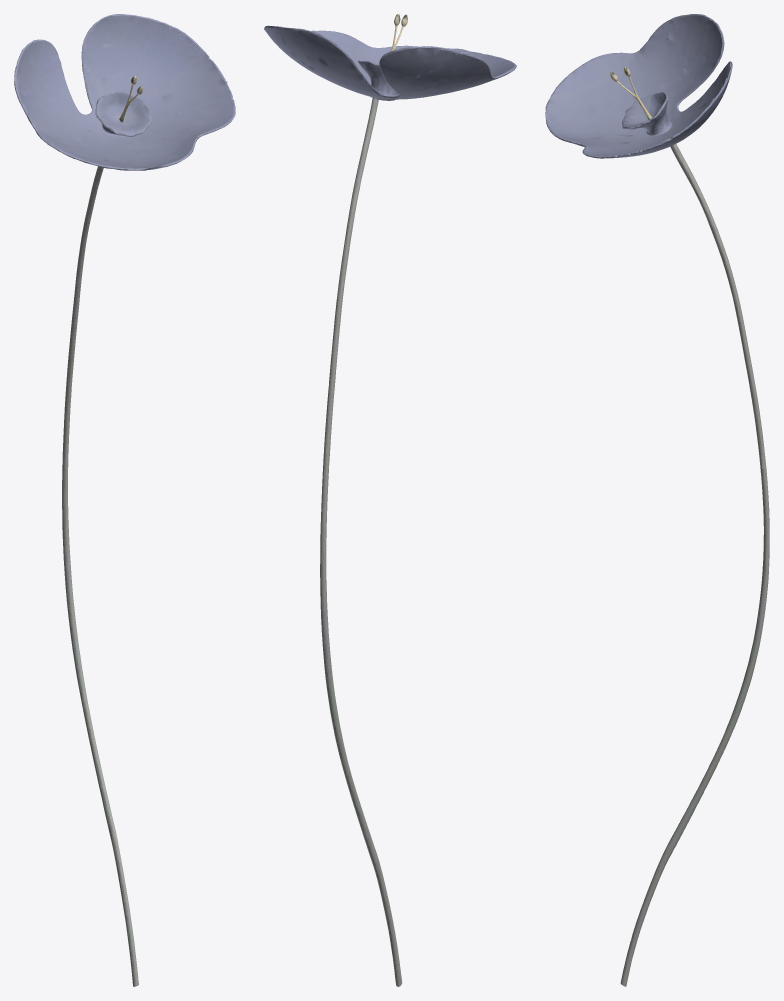
Rendered from 11_5_hamu_cntk_mvi-opt-v60.glb.
The picture shows the model from 3 angles, left to right: view 1: azimuth 30°, elevation 25°; view 2: azimuth 150°, elevation 25°; view 3: azimuth 270°, elevation 25°; orthographic projection. The views are drawn at different scales.
Parts seen in each view (by area): view 1: tripo_node_051e561d-8f3a-4f7d-8698-18b2823846f7.001; view 2: tripo_node_051e561d-8f3a-4f7d-8698-18b2823846f7.001; view 3: tripo_node_051e561d-8f3a-4f7d-8698-18b2823846f7.001.
Boxes of the visible parts, left/top/right/bottom form: tripo_node_051e561d-8f3a-4f7d-8698-18b2823846f7.001: left=14, top=14, right=235, bottom=986; tripo_node_051e561d-8f3a-4f7d-8698-18b2823846f7.001: left=264, top=14, right=516, bottom=986; tripo_node_051e561d-8f3a-4f7d-8698-18b2823846f7.001: left=545, top=14, right=769, bottom=986.
Size of the model in its own units: 0.1023 by 0.4529 by 0.0985.
1 material, 1 textured.
